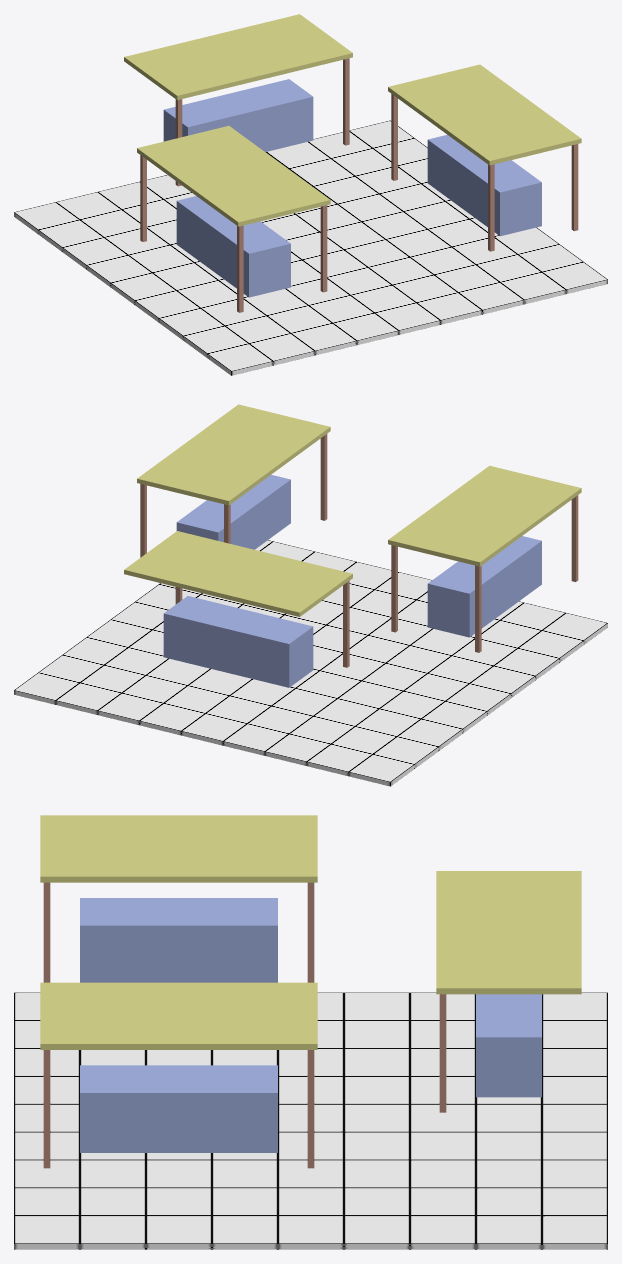
File: XG_Medium-Market.glb
3 views of the same model, one above another, from view 1: azimuth 30°, elevation 25°; view 2: azimuth 150°, elevation 25°; view 3: azimuth 270°, elevation 25° (orthographic). The views are drawn at different scales.
Parts seen in each view (by area): view 1: ground_9_x_9_018, Box601, Box643, Box607, Box596, Box602, Box638, Box603, Box639, Box605, Box641, Box598 (+2 smaller); view 2: ground_9_x_9_018, Box601, Box607, Box643, Box596, Box602, Box638, Box605, Box641, Box606, Box604, Box597; view 3: ground_9_x_9_018, Box607, Box643, Box601, Box638, Box602, Box596, Box598, Box639, Box640, Box603, Box604.
Part boxes in pixels (x1,y1,x2,y2): ground_9_x_9_018: (14, 120, 607, 375); Box601: (124, 14, 352, 100); Box643: (388, 64, 581, 165); Box607: (137, 125, 330, 226); Box596: (163, 79, 313, 151); Box602: (176, 196, 290, 297); Box638: (427, 134, 541, 236); Box603: (320, 205, 327, 292); Box639: (571, 144, 578, 231); Box605: (237, 225, 243, 312); Box641: (488, 164, 494, 251); Box598: (343, 58, 349, 145); ground_9_x_9_018: (14, 540, 607, 786); Box601: (124, 531, 352, 616); Box607: (388, 465, 581, 566); Box643: (137, 404, 330, 505); Box596: (163, 596, 313, 687); Box602: (427, 536, 541, 637); Box638: (176, 474, 290, 549); Box605: (571, 495, 578, 581); Box641: (320, 434, 327, 520); Box606: (475, 565, 481, 652); Box604: (391, 545, 397, 632); Box597: (343, 581, 349, 667); ground_9_x_9_018: (14, 992, 607, 1249); Box607: (40, 815, 317, 882); Box643: (40, 982, 317, 1049); Box601: (436, 871, 581, 994); Box638: (80, 1065, 277, 1152); Box602: (80, 898, 277, 982); Box596: (476, 994, 541, 1097); Box598: (439, 994, 446, 1112); Box639: (43, 1050, 50, 1168); Box640: (307, 1050, 314, 1168); Box603: (43, 882, 50, 982); Box604: (307, 882, 314, 982).
Size of the model in its own units: 9 by 3.25 by 9.
Materials: 4 (1 with a texture image).
